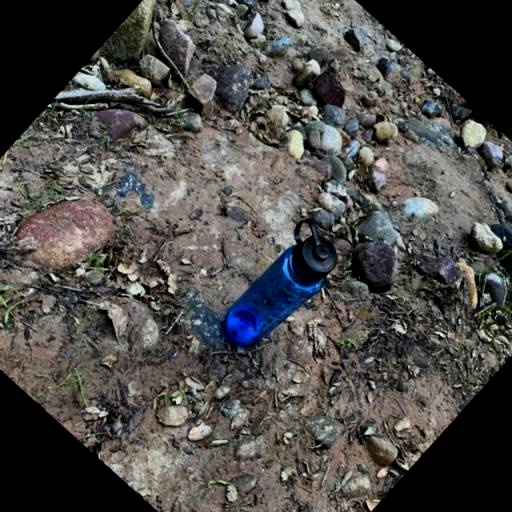bottle: (210, 214, 350, 362)
